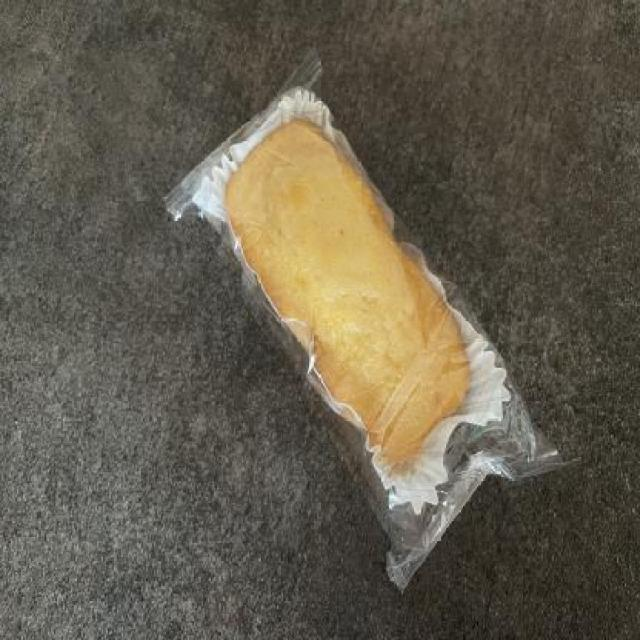Merendine packaged: (205, 80, 528, 526)
